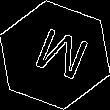M_S: (23, 23, 87, 87)
